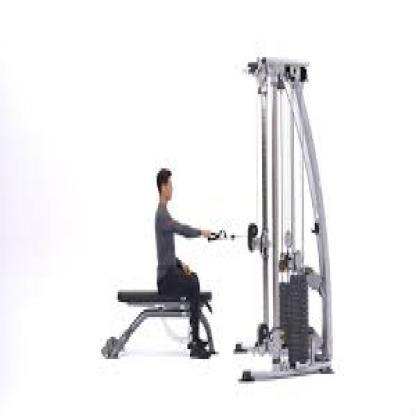Seated Cable Rows: (97, 51, 336, 375)
